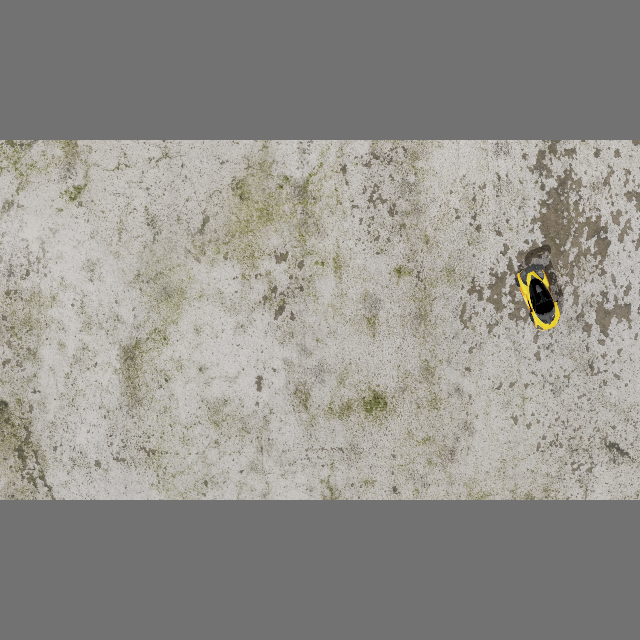car: (511, 261, 569, 335)
